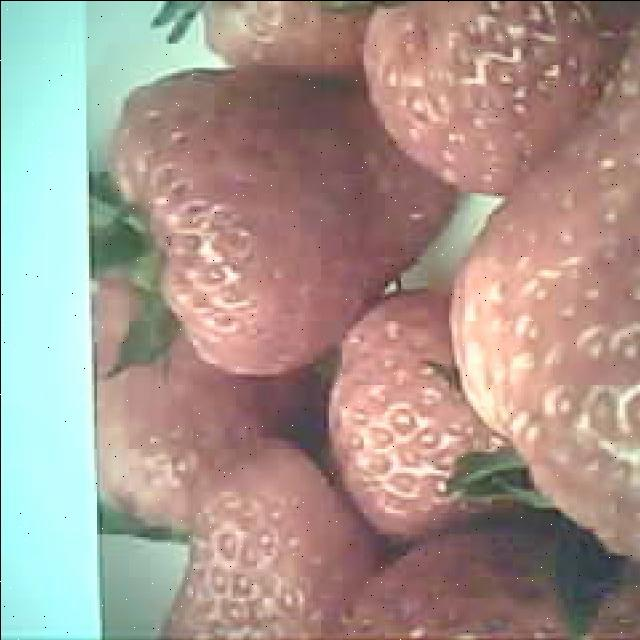strawberry: (109, 65, 447, 375)
